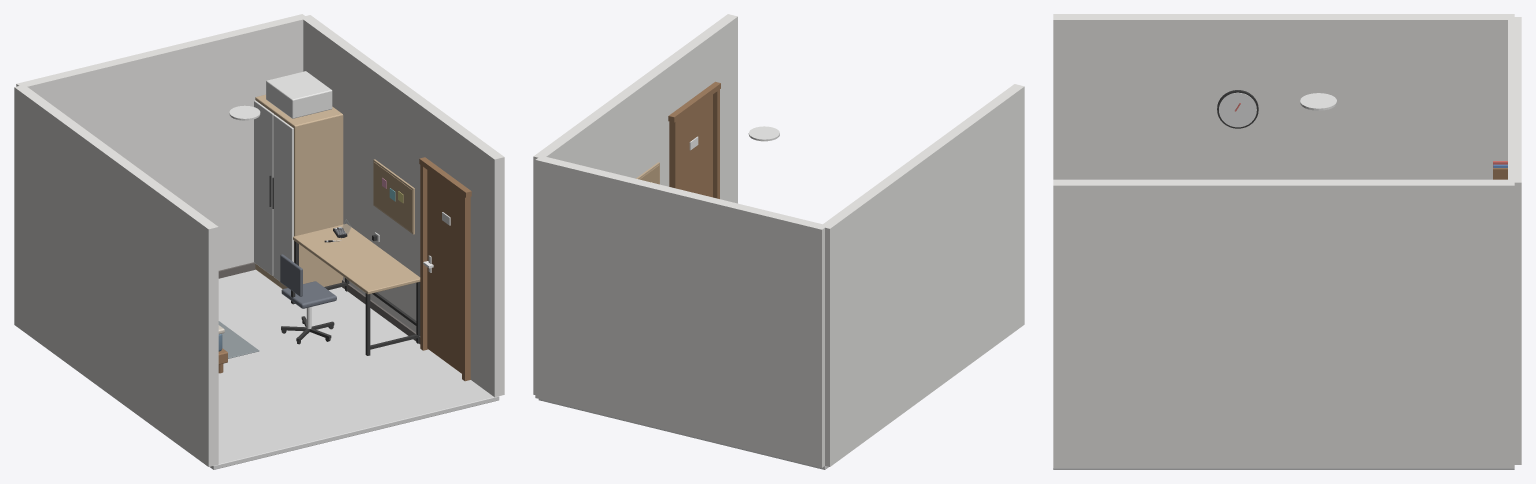
The model's file is kamar_kosan_full.fbx.
3 views of the same model, side by side, from view 1: azimuth 30°, elevation 25°; view 2: azimuth 150°, elevation 25°; view 3: azimuth 270°, elevation 25° (orthographic). The views are drawn at different scales.
Visible parts, largest first — view 1: Dinding_Kiri, Lantai_Keramik, Dinding_Belakang, Dinding_Kanan, Lemari_Body, Daun_Pintu, Meja_Top, Lemari_Pintu_Belakang, Lemari_Pintu_Depan, Kotak_Penyimpanan_Atas, Kusen_Pintu_Kiri, Papan_Memo_Gabus (+6 smaller); view 2: Dinding_Belakang, Dinding_Kiri, Dinding_Kanan, Daun_Pintu, Kusen_Pintu_Kiri, Kusen_Pintu_Kanan, Lantai_Keramik, Kusen_Pintu_Atas; view 3: Dinding_Kanan, Dinding_Kiri, Dinding_Belakang, Jam_Dial, Lantai_Keramik, Lampu_Plafon_Rim.
Part boxes in pixels (x1,y1,x2,y2): Dinding_Kiri: (14,85,218,466); Lantai_Keramik: (210,269,499,469); Dinding_Belakang: (16,14,307,270); Dinding_Kanan: (301,15,504,397); Lemari_Body: (255,94,343,288); Daun_Pintu: (427,170,461,373); Meja_Top: (293,223,420,294); Lemari_Pintu_Belakang: (254,100,274,275); Lemari_Pintu_Depan: (273,114,293,281); Kotak_Penyimpanan_Atas: (266,71,332,118); Kusen_Pintu_Kiri: (462,195,470,381); Papan_Memo_Gabus: (374,162,412,231); Dinding_Belakang: (535,156,826,467); Dinding_Kiri: (820,84,1024,466); Dinding_Kanan: (533,14,737,394); Daun_Pintu: (678,94,712,197); Kusen_Pintu_Kiri: (713,89,719,198); Kusen_Pintu_Kanan: (669,119,678,188); Lantai_Keramik: (538,399,828,469); Kusen_Pintu_Atas: (668,81,720,122); Dinding_Kanan: (1053,179,1514,467); Dinding_Kiri: (1053,14,1514,179); Dinding_Belakang: (1508,17,1521,464); Jam_Dial: (1219,92,1256,127); Lantai_Keramik: (1053,468,1514,469); Lampu_Plafon_Rim: (1300,93,1336,110).
Size of the model in its own units: 3.52 by 2.75 by 4.06.
